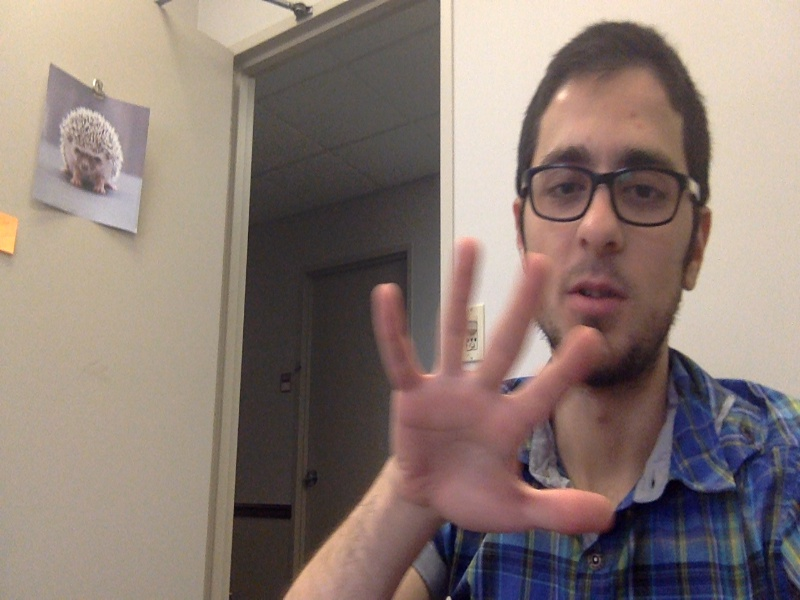5-hand: (366, 238, 615, 535)
